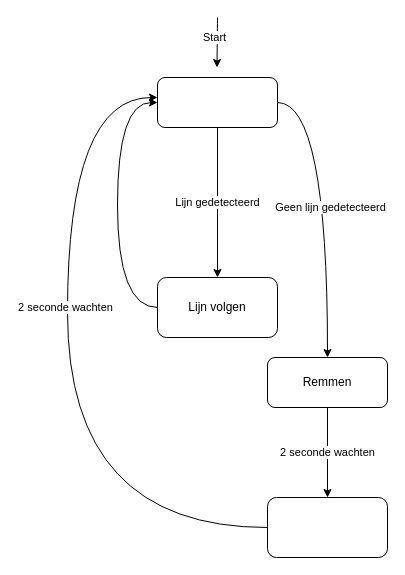
The diagram is 405 pixels wide and 575 high, and some of its shapes have lost their labels. The shapes that lost their labels are listed below. From the top down, each one's centre as x and y in pixels, then its label:
point 217,102: Lijn zoeken
point 327,527: 90 graden draaien
